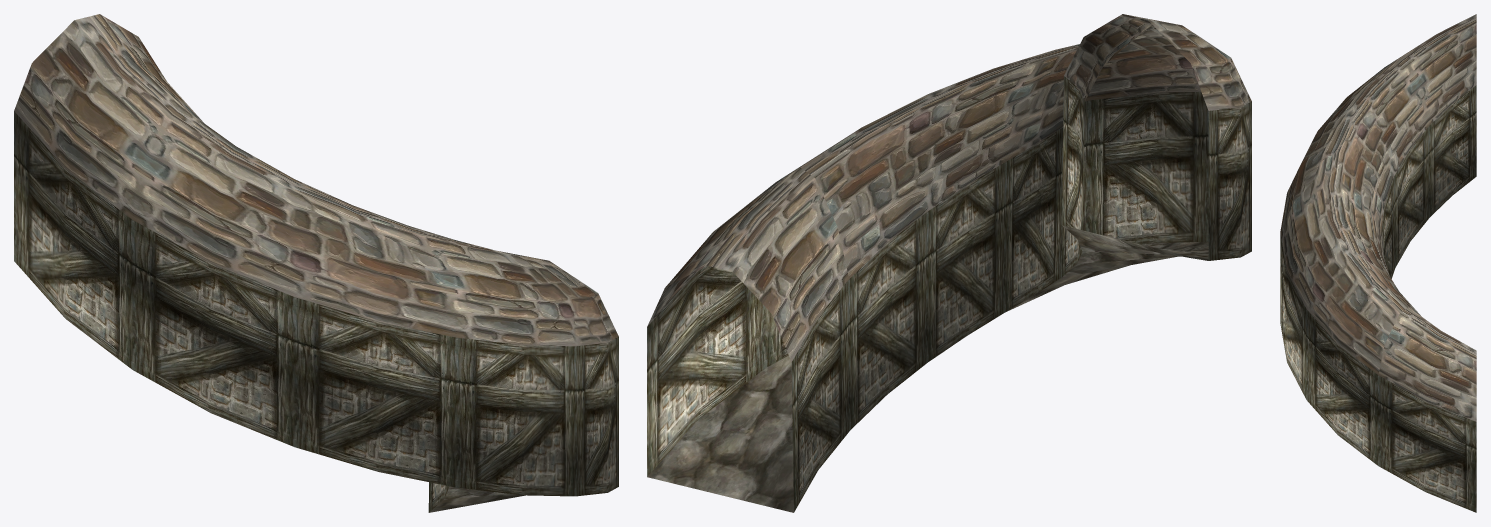
The model's file is stormwind_086.fbx.
The picture shows the model from 3 angles, left to right: view 1: azimuth 30°, elevation 25°; view 2: azimuth 150°, elevation 25°; view 3: azimuth 270°, elevation 25°; orthographic projection. The views are drawn at different scales.
Visible parts, largest first — view 1: stormwind_086_58, stormwind_086_38, stormwind_086_57; view 2: stormwind_086_58, stormwind_086_38, stormwind_086_57; view 3: stormwind_086_38, stormwind_086_58.
Part boxes in pixels (x1,y1,x2,y2): stormwind_086_58: [14, 111, 618, 512]; stormwind_086_38: [14, 14, 618, 346]; stormwind_086_57: [429, 486, 525, 512]; stormwind_086_58: [647, 76, 1251, 512]; stormwind_086_38: [647, 14, 1251, 361]; stormwind_086_57: [647, 225, 1208, 512]; stormwind_086_38: [1280, 14, 1476, 421]; stormwind_086_58: [1280, 85, 1476, 512].
Bounding box in the file's own units: 15.39 × 15.17 × 7.7.
